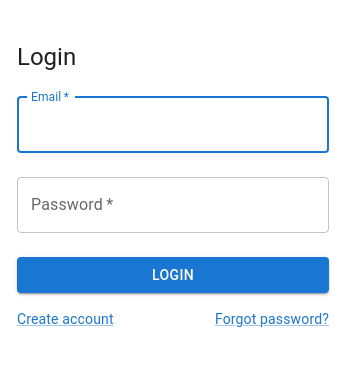
Test: LoginPage › shows fallback error message when no detail
Type "test@example.com" into the field labelled "Email *" at [173, 125], box [17, 97, 329, 153]
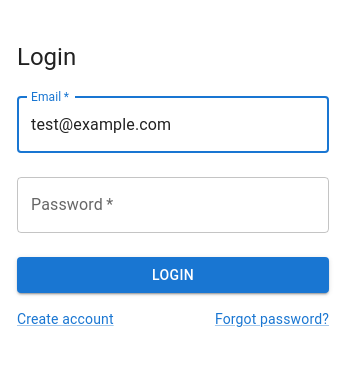
Type "pass" into the password field labelled "Password *" at [173, 205], box [17, 177, 329, 233]
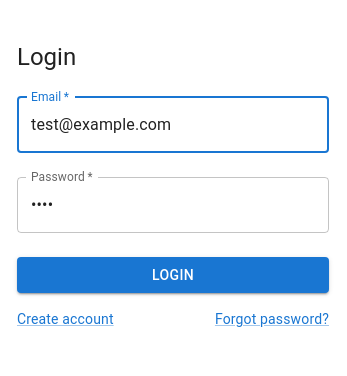
Click the button "Login" at [173, 275], box [17, 257, 329, 293]
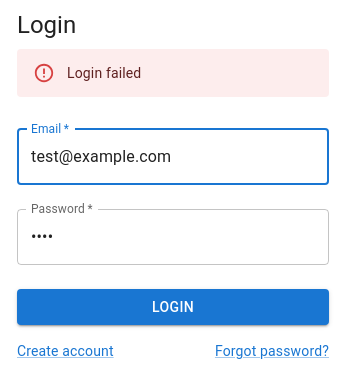
Check: the text "Login failed" is shown, box [67, 65, 141, 81]
